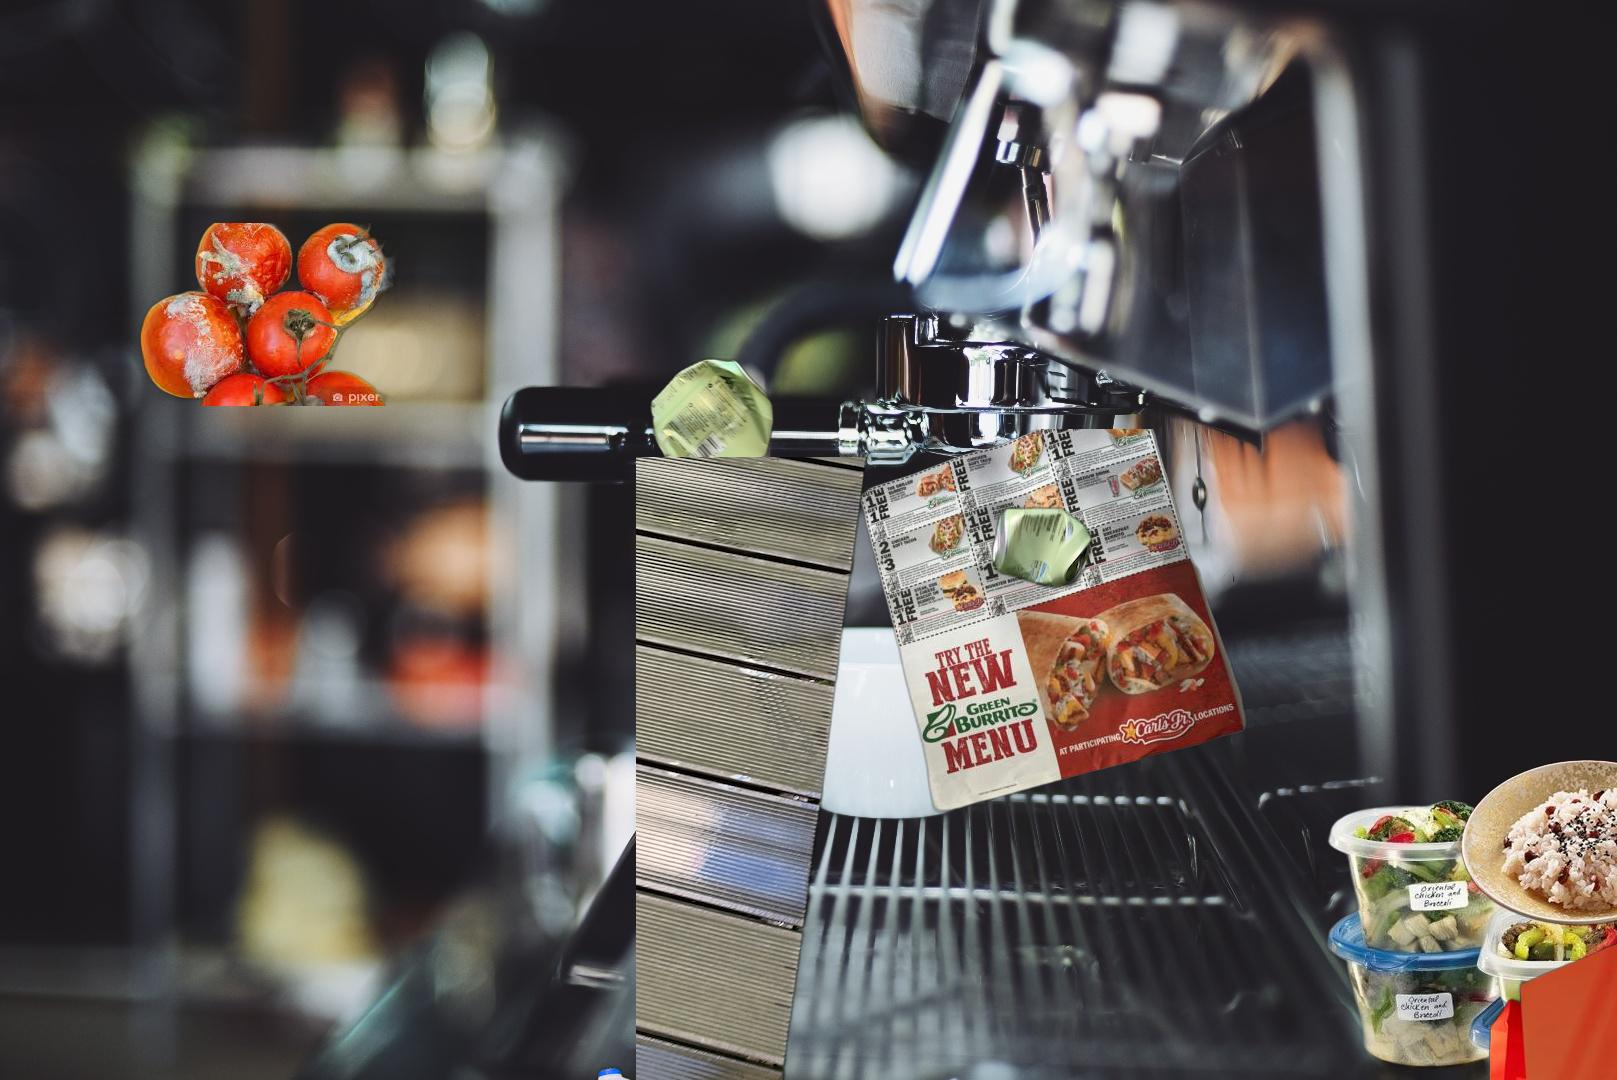biological: (1276, 797, 1617, 1080), (1437, 647, 1617, 927), (137, 223, 404, 406)
metal-cans: (636, 457, 1096, 1080), (645, 352, 778, 495)
paper: (855, 429, 1251, 812)
paper-bag: (1484, 938, 1617, 1080)
plastic-bottles: (583, 1061, 655, 1080)
